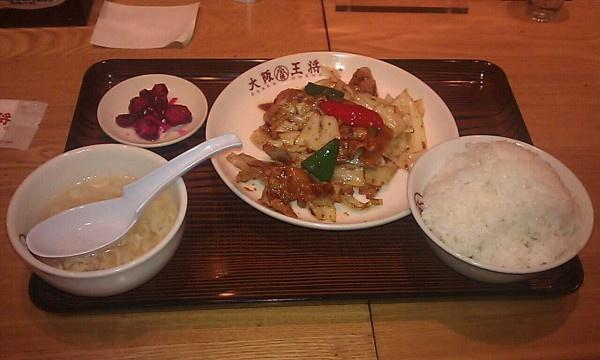rice: (415, 140, 580, 270)
